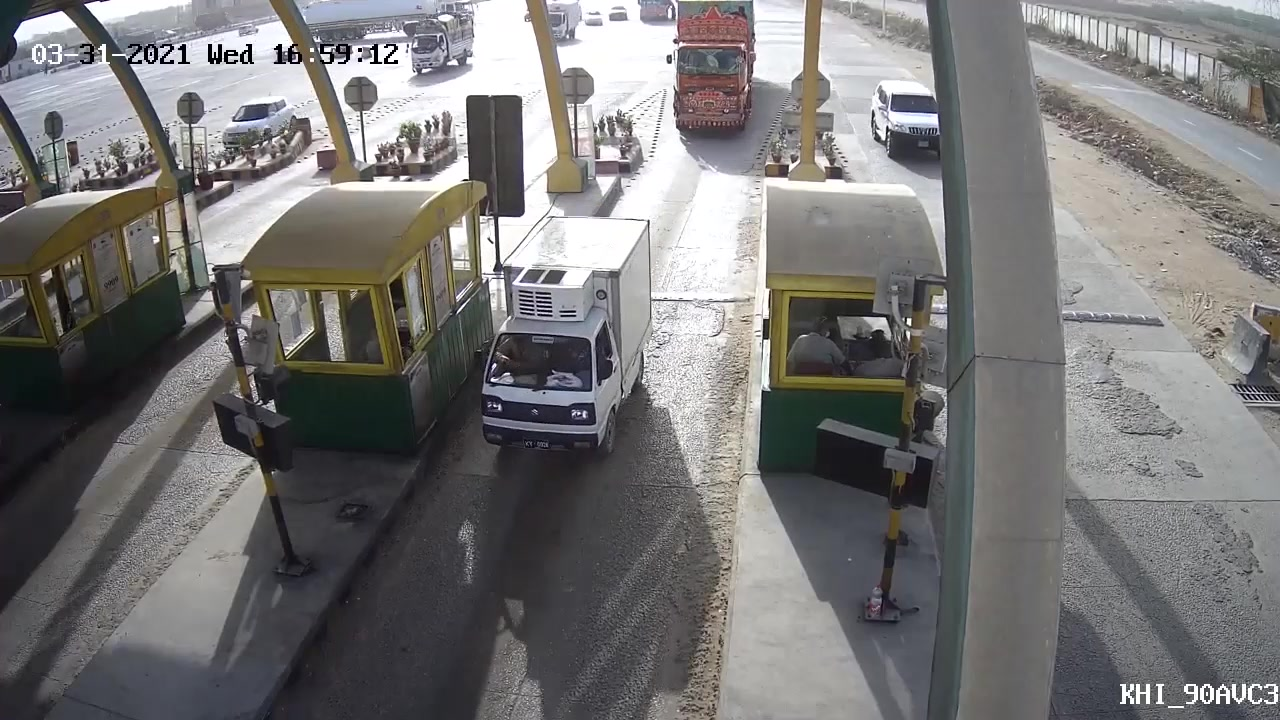F1: (470, 208, 665, 460)
F5: (664, 4, 757, 139)
